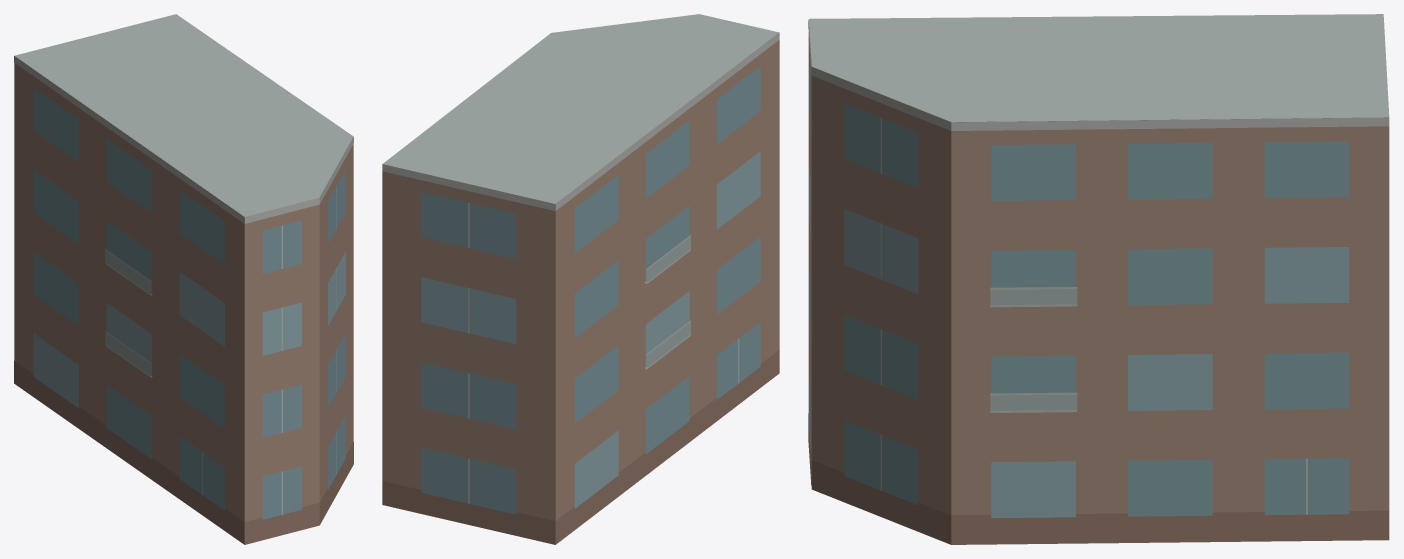
File: survey-upis-32720788.glb
3 renders of one model, left to right at view 1: azimuth 30°, elevation 25°; view 2: azimuth 150°, elevation 25°; view 3: azimuth 270°, elevation 25°, orthographic. The views are drawn at different scales.
Parts seen in each view (by area): view 1: survey-upis-32720788.tmp; view 2: survey-upis-32720788.tmp; view 3: survey-upis-32720788.tmp.
Boxes of the visible parts, x1,y1,x2,y2 form: survey-upis-32720788.tmp: [14, 14, 353, 544]; survey-upis-32720788.tmp: [382, 14, 779, 544]; survey-upis-32720788.tmp: [808, 14, 1389, 544].
Size of the model in its own units: 6.38 by 11.6 by 14.46.
